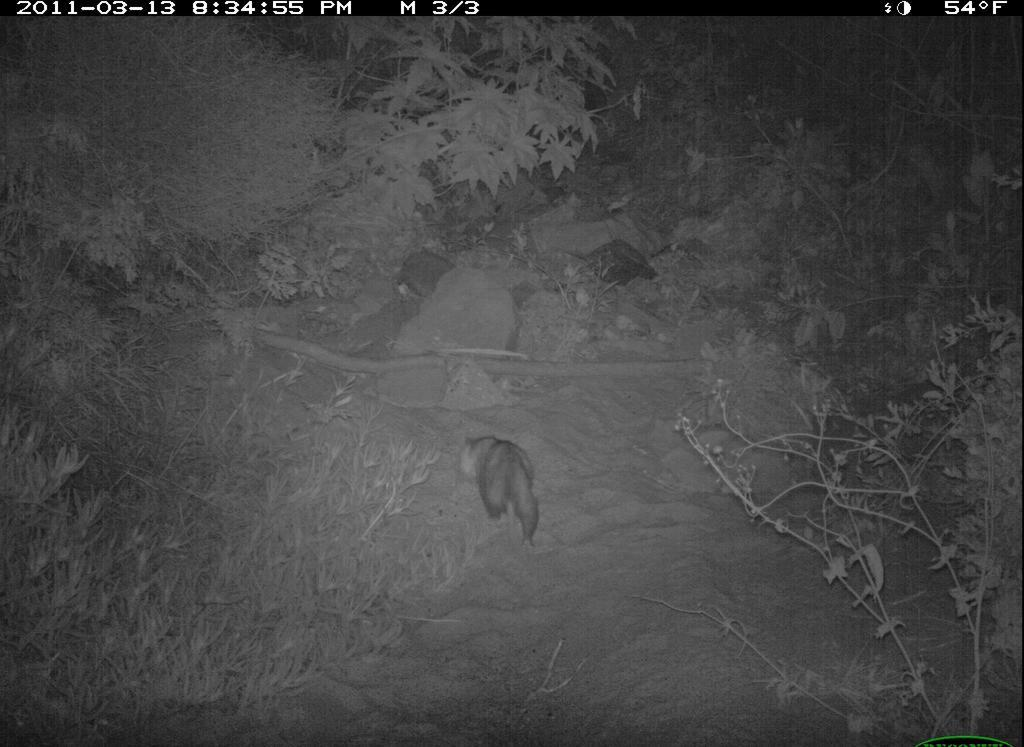opossum: (446, 422, 561, 553)
